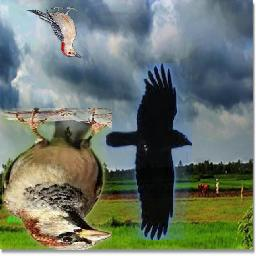Crow: (106, 64, 192, 241)
Sparrow: (2, 108, 112, 250)
Woodpecker: (27, 7, 84, 60)
